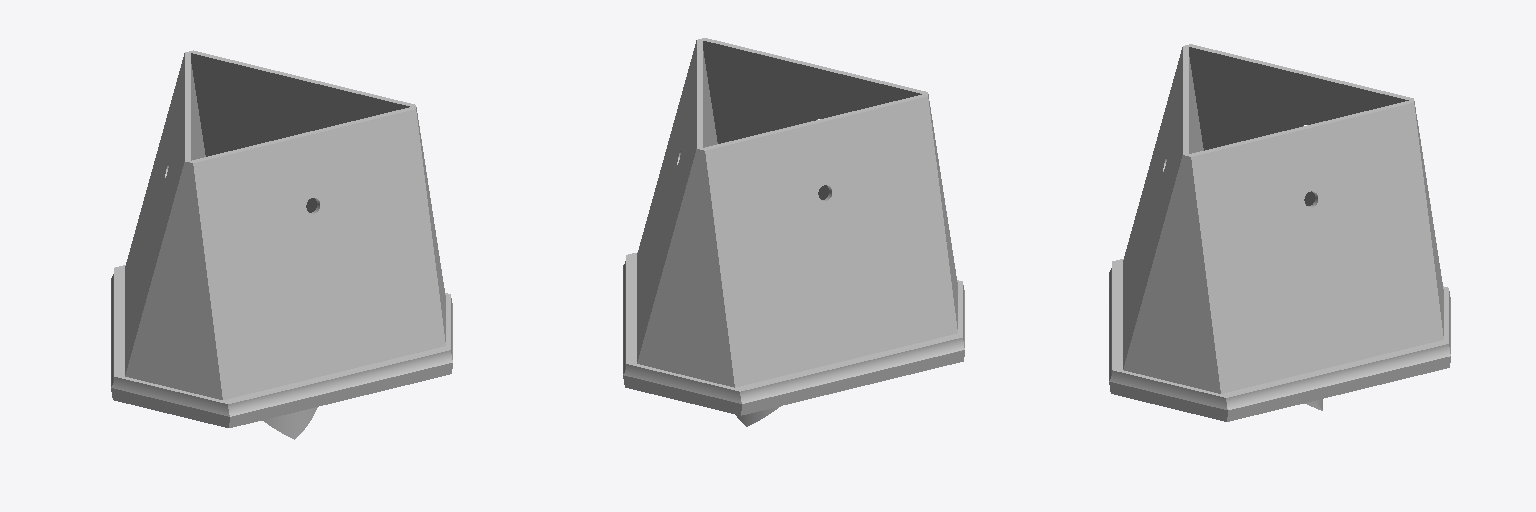
File: gantry.obj
3 renders of one model, left to right at view 1: azimuth 30°, elevation 25°; view 2: azimuth 150°, elevation 25°; view 3: azimuth 270°, elevation 25°, orthographic.
Parts seen in each view (by area): view 1: Gantry_-_Part_4; view 2: Gantry_-_Part_4; view 3: Gantry_-_Part_4.
Part boxes in pixels (x1,y1,x2,y2): Gantry_-_Part_4: (111,50,452,439); Gantry_-_Part_4: (623,38,964,426); Gantry_-_Part_4: (1109,44,1450,421).
Bounding box in the file's own units: 98.18 × 85.25 × 85.02.